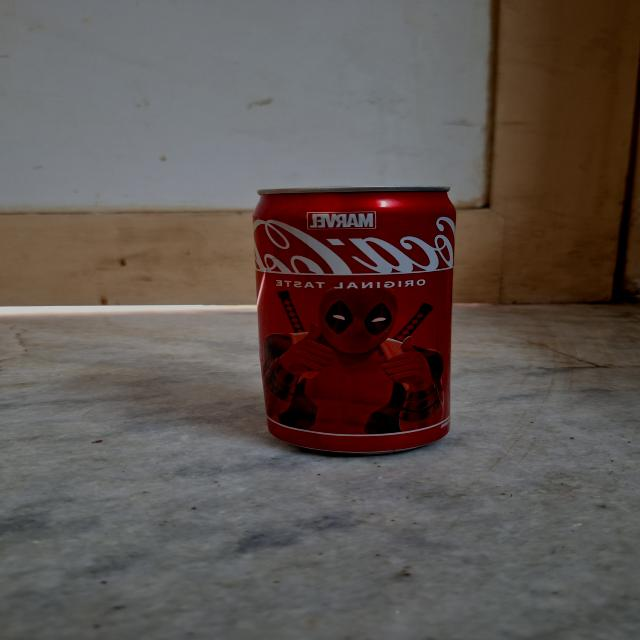Coca Cola - Marvel: (260, 184, 462, 455)
